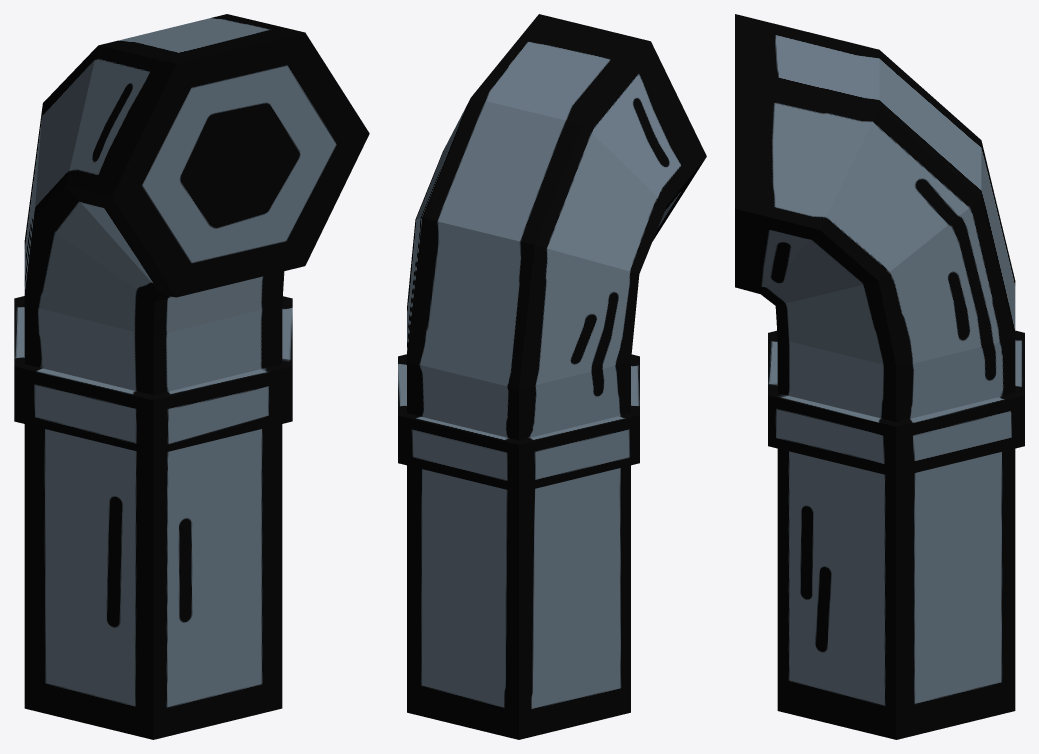
File: L_Gutter.fbx
3 views of the same model, side by side, from view 1: azimuth 30°, elevation 25°; view 2: azimuth 150°, elevation 25°; view 3: azimuth 270°, elevation 25° (orthographic). The views are drawn at different scales.
Visible parts, largest first — view 1: L_Gutter; view 2: L_Gutter; view 3: L_Gutter.
Boxes of the visible parts, box(x1,y1,x2,y2) form: L_Gutter: box(14, 14, 369, 739); L_Gutter: box(398, 14, 706, 739); L_Gutter: box(735, 14, 1024, 739).
Bounding box in the file's own units: 126 × 300 × 123.
